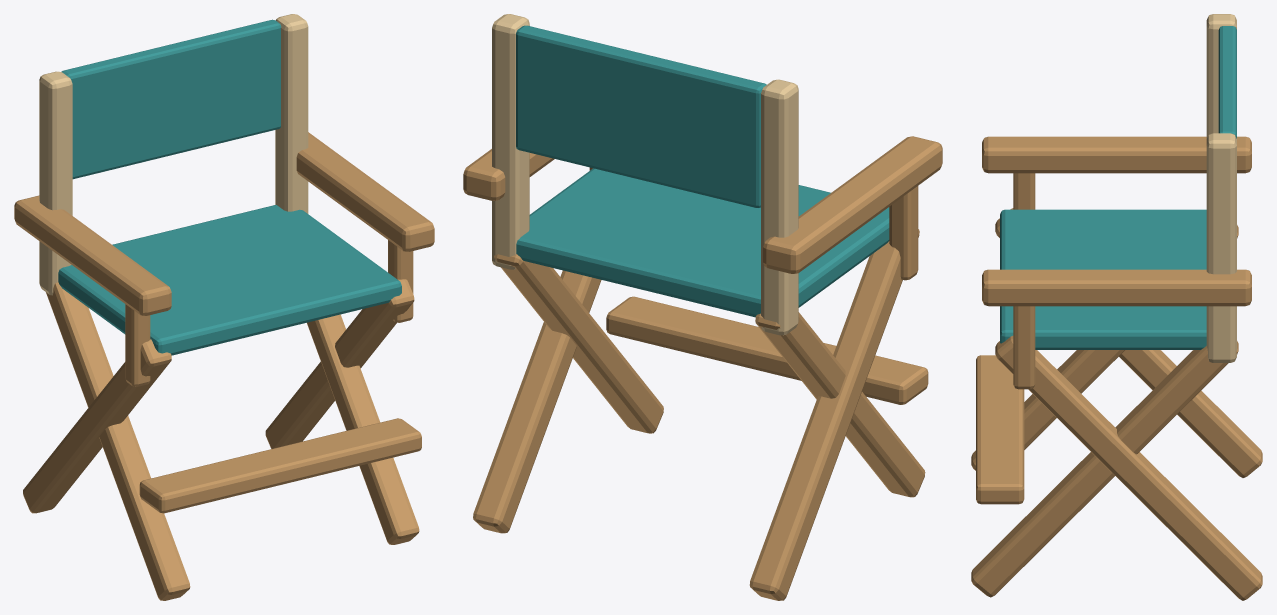
The model's file is S026_director_chair.glb.
3 views of the same model, side by side, from view 1: azimuth 30°, elevation 25°; view 2: azimuth 150°, elevation 25°; view 3: azimuth 270°, elevation 25° (orthographic). The views are drawn at different scales.
Visible parts, largest first — view 1: canvas_seat, canvas_back, footrest, chair_cross_leg, arm_rest, chair_cross_leg.002, chair_cross_leg.001, arm_rest.001, chair_cross_leg.003, back_upright.001, back_upright, arm_support (+1 smaller); view 2: canvas_back, canvas_seat, chair_cross_leg.001, footrest, chair_cross_leg.003, arm_rest, chair_cross_leg.002, back_upright, chair_cross_leg, back_upright.001, arm_support, arm_rest.001; view 3: canvas_seat, chair_cross_leg.003, chair_cross_leg.002, arm_rest.001, arm_rest, footrest, back_upright.001, chair_cross_leg.001, chair_cross_leg, canvas_back, arm_support.001, back_upright (+1 smaller).
Part boxes in pixels (bbox=[...]): canvas_seat: bbox=[58, 205, 401, 355]; canvas_back: bbox=[61, 19, 281, 179]; footrest: bbox=[139, 418, 421, 513]; chair_cross_leg: bbox=[46, 282, 190, 600]; arm_rest: bbox=[14, 195, 171, 315]; chair_cross_leg.002: bbox=[307, 314, 419, 544]; chair_cross_leg.001: bbox=[23, 339, 171, 513]; arm_rest.001: bbox=[296, 132, 434, 251]; chair_cross_leg.003: bbox=[265, 279, 414, 448]; back_upright.001: bbox=[275, 14, 308, 213]; back_upright: bbox=[39, 71, 72, 295]; arm_support: bbox=[125, 304, 150, 386]; canvas_back: bbox=[516, 25, 766, 207]; canvas_seat: bbox=[516, 168, 889, 317]; chair_cross_leg.001: bbox=[749, 229, 919, 600]; footrest: bbox=[606, 296, 928, 404]; chair_cross_leg.003: bbox=[473, 270, 601, 533]; arm_rest: bbox=[763, 136, 942, 273]; chair_cross_leg.002: bbox=[494, 254, 663, 433]; back_upright: bbox=[761, 79, 798, 335]; chair_cross_leg: bbox=[755, 312, 925, 497]; back_upright.001: bbox=[492, 14, 529, 269]; arm_support: bbox=[889, 186, 918, 280]; arm_rest.001: bbox=[463, 149, 554, 200]; canvas_seat: bbox=[1000, 209, 1206, 349]; chair_cross_leg.003: bbox=[995, 336, 1262, 600]; chair_cross_leg.002: bbox=[971, 341, 1238, 597]; arm_rest.001: bbox=[982, 269, 1251, 306]; arm_rest: bbox=[982, 136, 1251, 173]; footrest: bbox=[976, 355, 1024, 504]; back_upright.001: bbox=[1206, 133, 1236, 362]; chair_cross_leg.001: bbox=[995, 208, 1262, 477]; chair_cross_leg: bbox=[971, 225, 1238, 470]; canvas_back: bbox=[1218, 26, 1236, 138]; arm_support.001: bbox=[1013, 306, 1035, 389]; back_upright: bbox=[1206, 14, 1236, 138].
Size of the model in its own units: 0.875 by 1.25 by 0.723.
